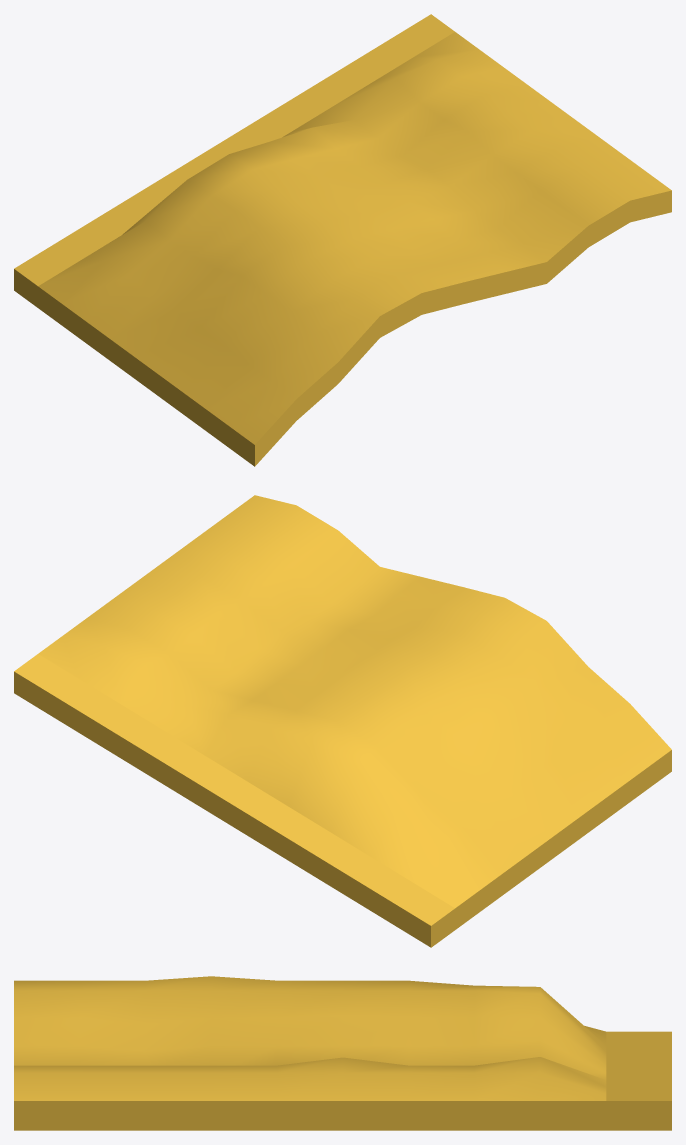
File: Flach - Mitte - Hügle x - b.fbx
The picture shows the model from 3 angles, top to bottom: view 1: azimuth 30°, elevation 25°; view 2: azimuth 150°, elevation 25°; view 3: azimuth 270°, elevation 25°; orthographic projection. The views are drawn at different scales.
Visible parts, largest first — view 1: Flach - Mitte - Hügle x - b; view 2: Flach - Mitte - Hügle x - b; view 3: Flach - Mitte - Hügle x - b.
Boxes of the visible parts, x1,y1,x2,y2 form: Flach - Mitte - Hügle x - b: (14,14,671,466); Flach - Mitte - Hügle x - b: (14,495,671,947); Flach - Mitte - Hügle x - b: (14,976,671,1130).
Bounding box in the file's own units: 394 × 157 × 394.
